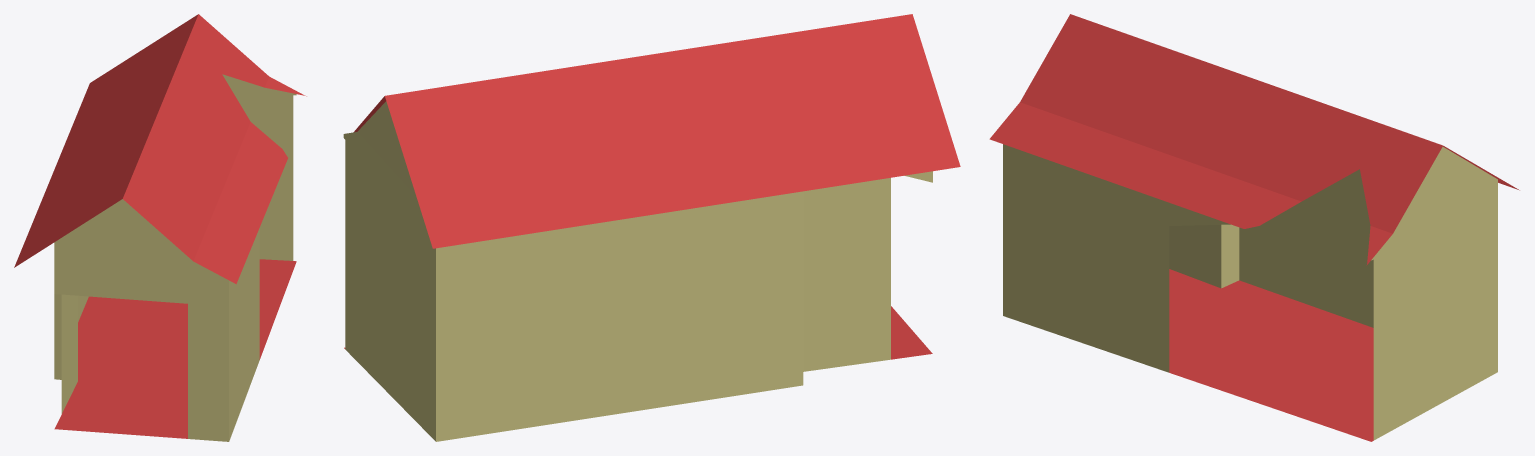
3 renders of one model, left to right at view 1: azimuth 30°, elevation 25°; view 2: azimuth 150°, elevation 25°; view 3: azimuth 270°, elevation 25°, orthographic. The views are drawn at different scales.
Size of the model in its own units: 25.42 by 27.16 by 14.75.
